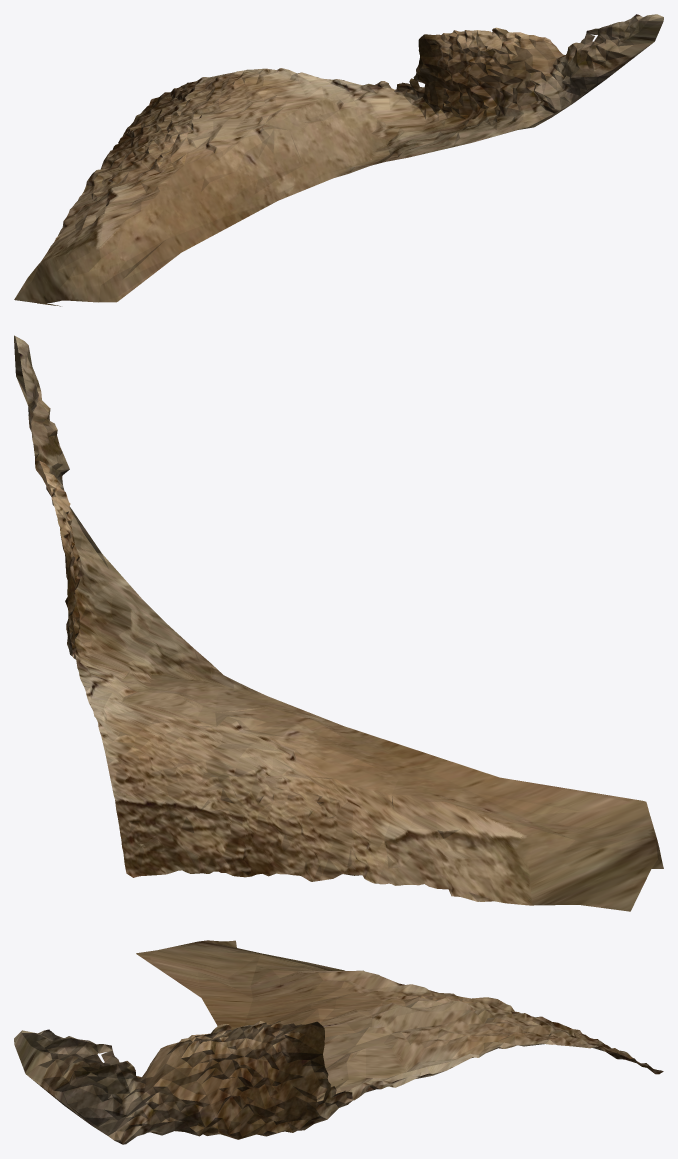
The model's file is tile_1_1.obj.
3 renders of one model, top to bottom at view 1: azimuth 30°, elevation 25°; view 2: azimuth 150°, elevation 25°; view 3: azimuth 270°, elevation 25°, orthographic. The views are drawn at different scales.
Parts seen in each view (by area): view 1: texture_0; view 2: texture_0; view 3: texture_0.
Boxes of the visible parts, x1,y1,x2,y2 form: texture_0: (14, 14, 663, 306); texture_0: (14, 335, 663, 911); texture_0: (14, 940, 663, 1144).
Bounding box in the file's own units: 0.3943 × 0.1506 × 0.2654.
1 material, 1 textured.
